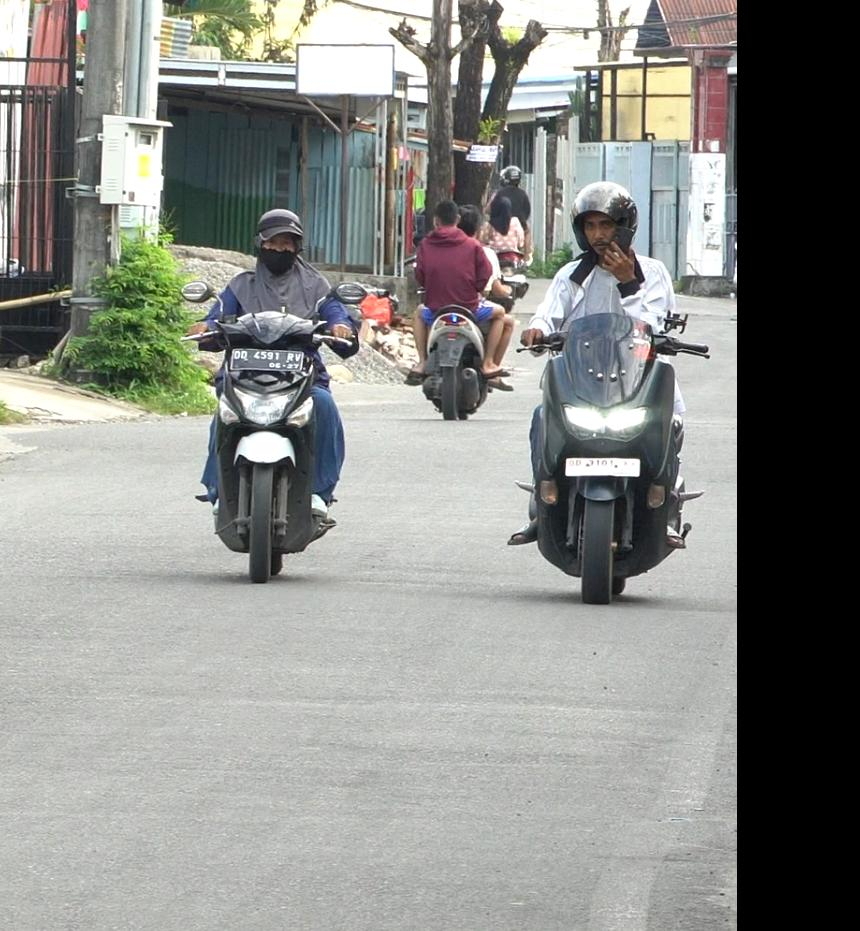number-plate: (229, 347, 306, 373), (561, 456, 645, 479)
